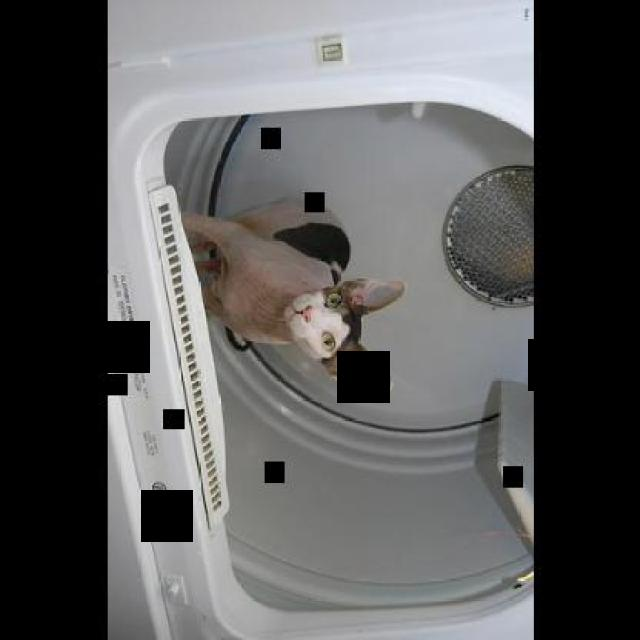unauthorized: (178, 194, 404, 392)
